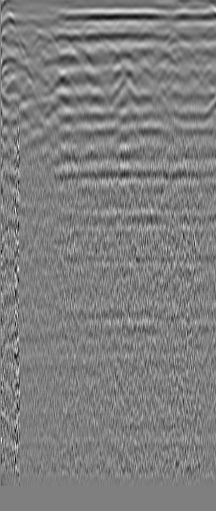오수: (25, 25, 65, 54)
우수: (161, 26, 181, 46)
